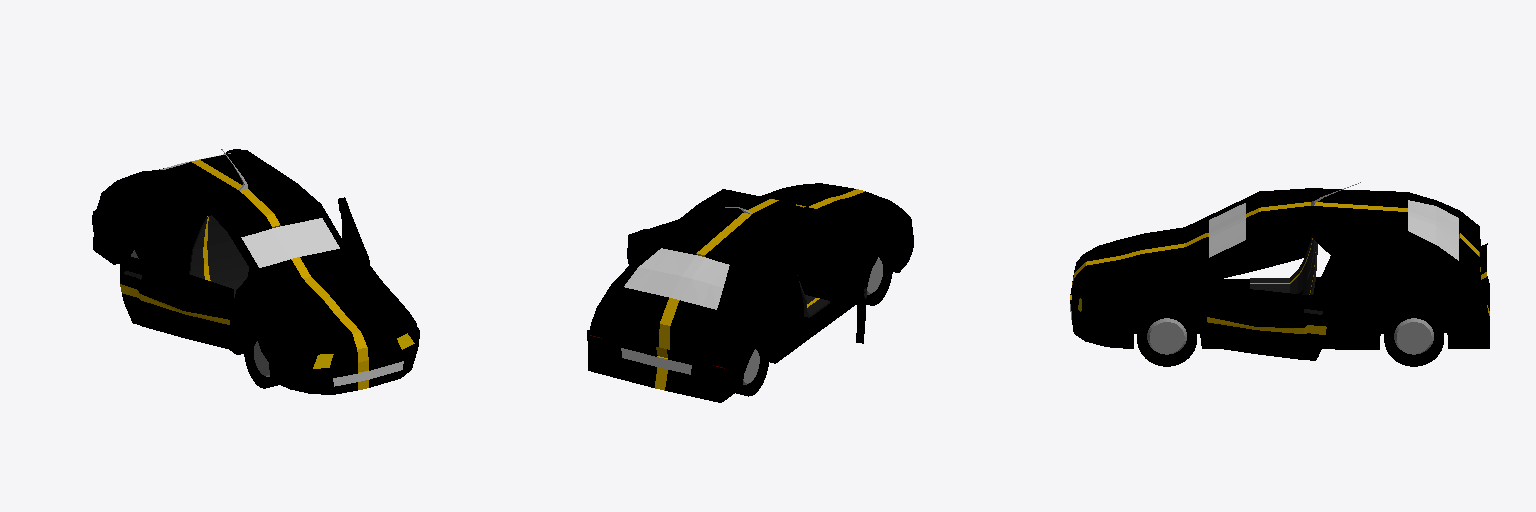
The model's file is Coche01.obj.
3 renders of one model, left to right at view 1: azimuth 30°, elevation 25°; view 2: azimuth 150°, elevation 25°; view 3: azimuth 270°, elevation 25°, orthographic.
Parts seen in each view (by area): view 1: Carroceria, Puerta Drch, Asientos, Rueda 01, Puerta Izquierda; view 2: Carroceria, Puerta Drch, Rueda 03, Rueda 01, Puerta Izquierda; view 3: Carroceria, Puerta Izquierda, Rueda 02, Rueda 04, Puerta Drch, Asientos.
Boxes of the visible parts, box(x1,y1,x2,y2) form: Carroceria: box(92, 149, 419, 394); Puerta Drch: box(119, 255, 233, 349); Asientos: box(189, 215, 248, 297); Rueda 01: box(244, 332, 278, 388); Puerta Izquierda: box(338, 197, 369, 263); Carroceria: box(587, 183, 913, 402); Puerta Drch: box(855, 240, 867, 343); Rueda 03: box(736, 340, 769, 396); Rueda 01: box(866, 249, 892, 305); Puerta Izquierda: box(627, 219, 678, 264); Carroceria: box(1070, 182, 1489, 349); Puerta Izquierda: box(1207, 286, 1333, 360); Rueda 02: box(1137, 312, 1196, 366); Rueda 04: box(1384, 314, 1443, 366); Puerta Drch: box(1211, 188, 1322, 279); Asientos: box(1250, 237, 1317, 294).
Bounding box in the file's own units: 1.81 × 1.13 × 2.81.